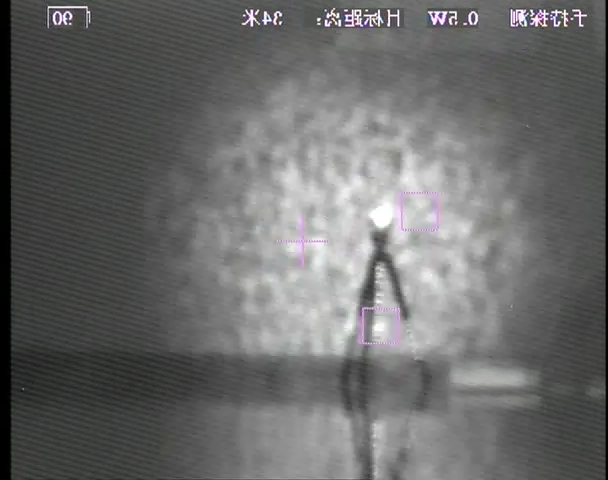my: (368, 200, 394, 229)
